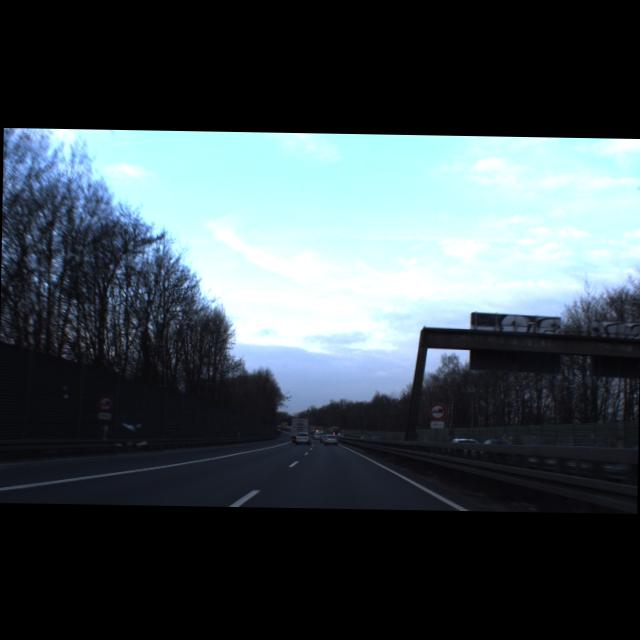prohibitory: (428, 402, 447, 421), (96, 394, 115, 412)
